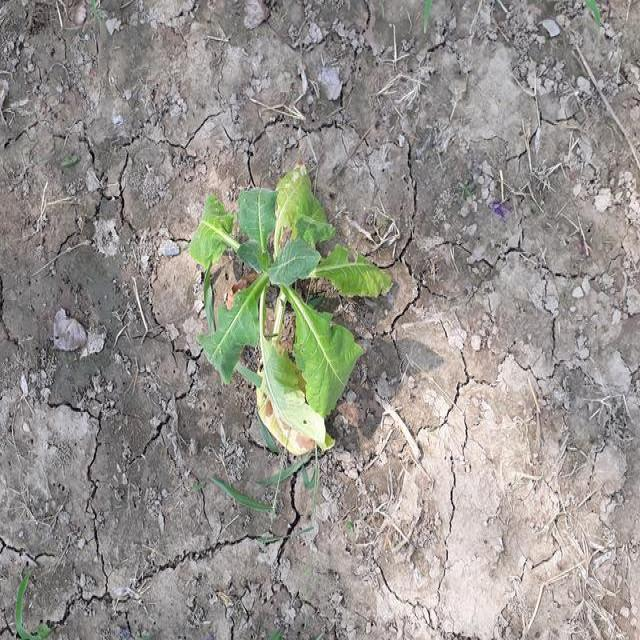crop: (190, 170, 384, 446)
